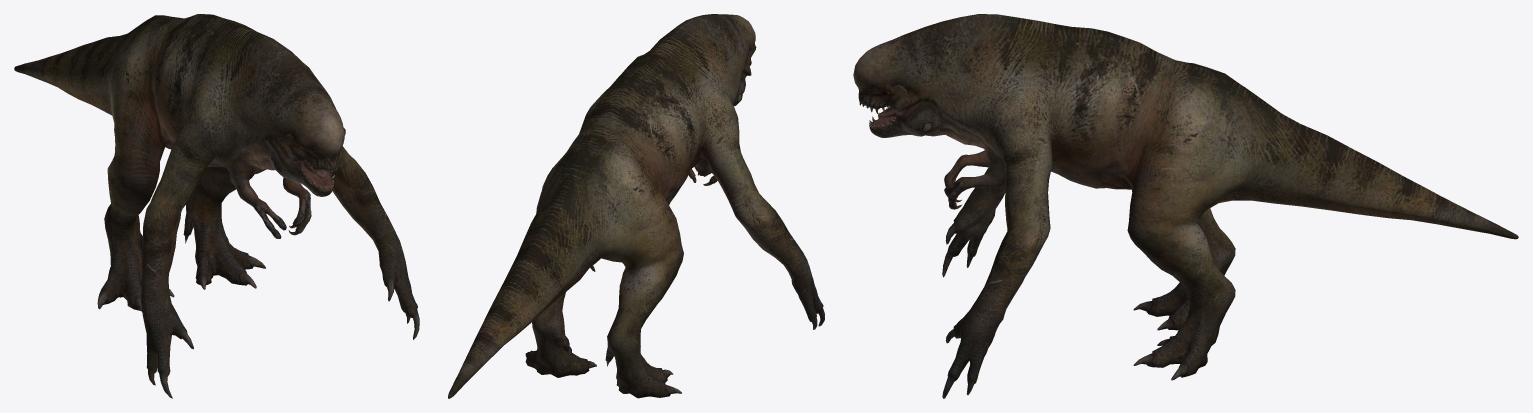
The model's file is Dino.obj.
3 views of the same model, side by side, from view 1: azimuth 30°, elevation 25°; view 2: azimuth 150°, elevation 25°; view 3: azimuth 270°, elevation 25° (orthographic). The views are drawn at different scales.
Visible parts, largest first — view 1: Mesh; view 2: Mesh; view 3: Mesh.
Part boxes in pixels (x1,y1,x2,y2): Mesh: [14, 14, 419, 398]; Mesh: [448, 14, 824, 398]; Mesh: [853, 14, 1518, 398].
Size of the model in its own units: 10.32 by 11.76 by 21.74.
